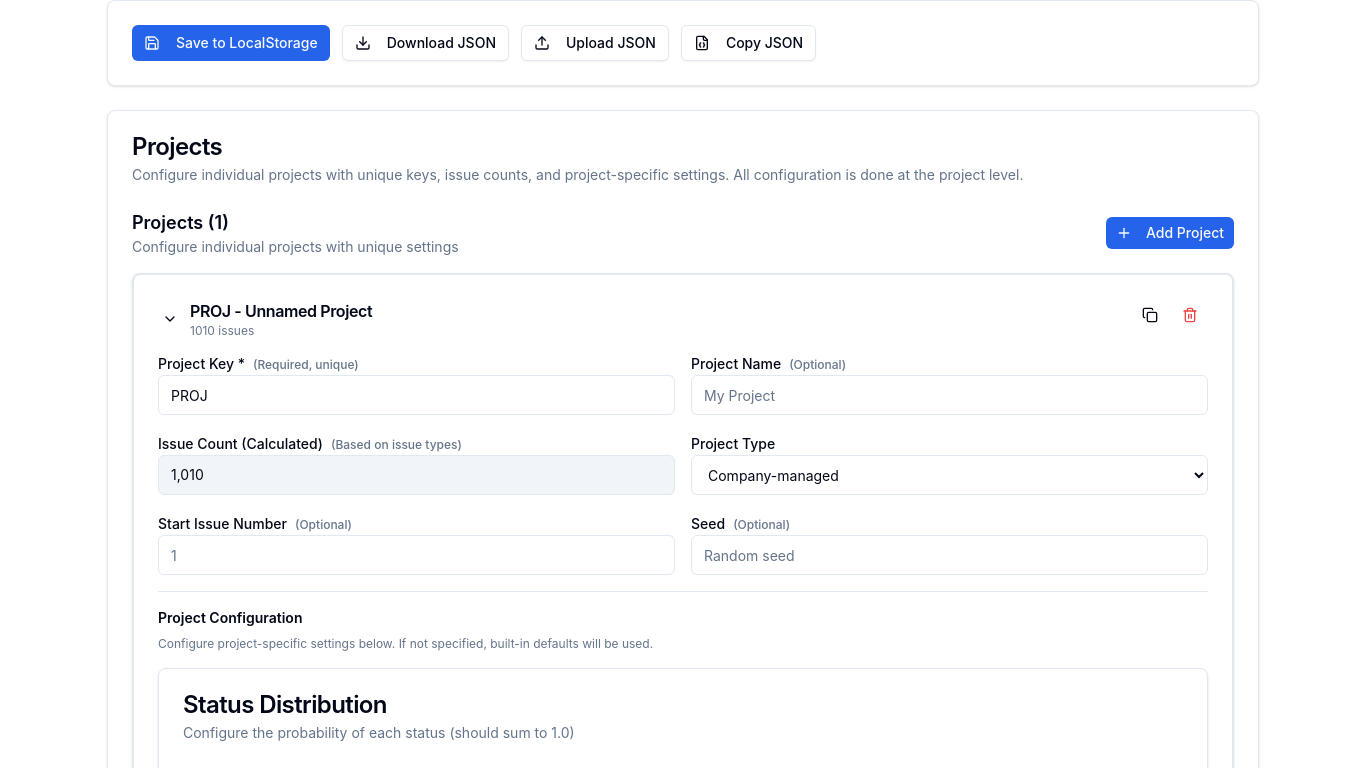
ConfigEditor Integration Tests › maintains config state across component interactions
Add a new project
Click the button "Add Project". click: (1170, 233)
box: [1106,217,1234,249]
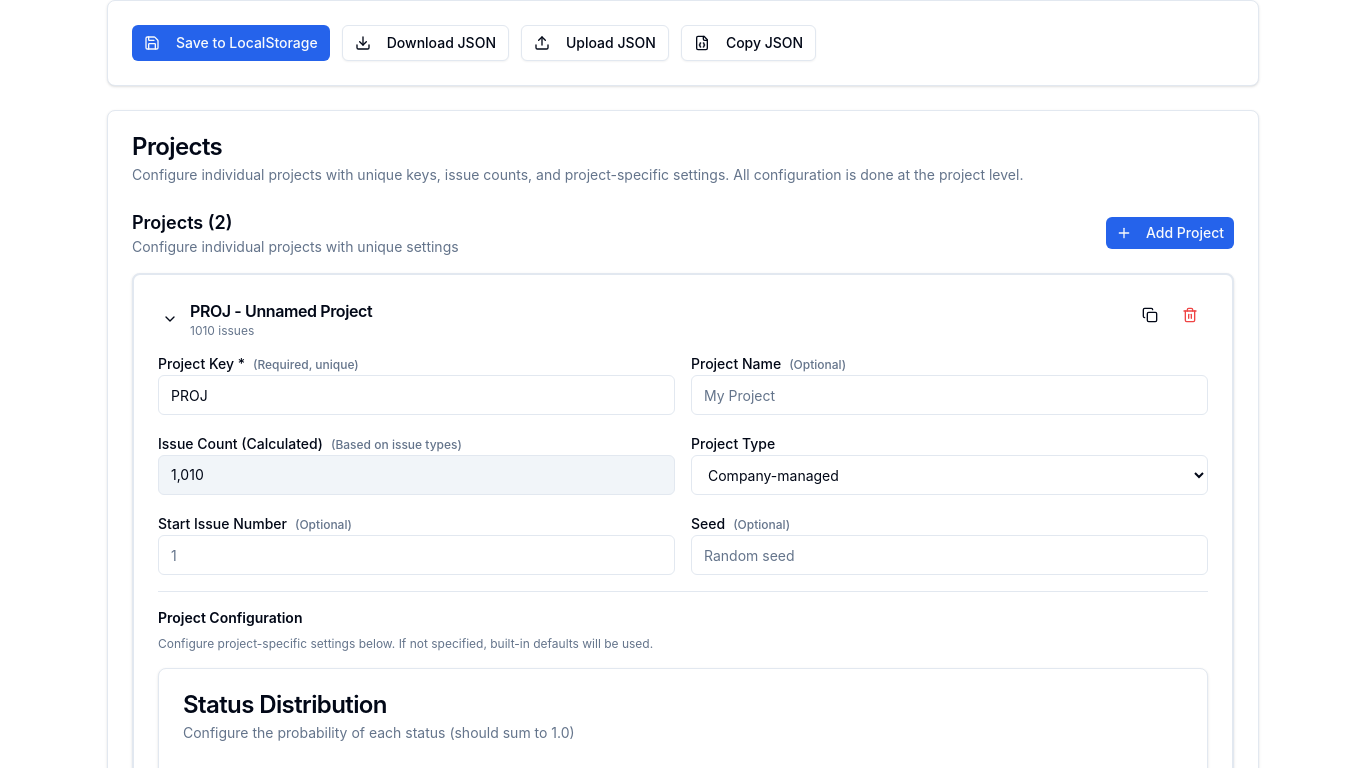
expect the heading "Projects (2)" is shown: met, box [132,212,232,233]
